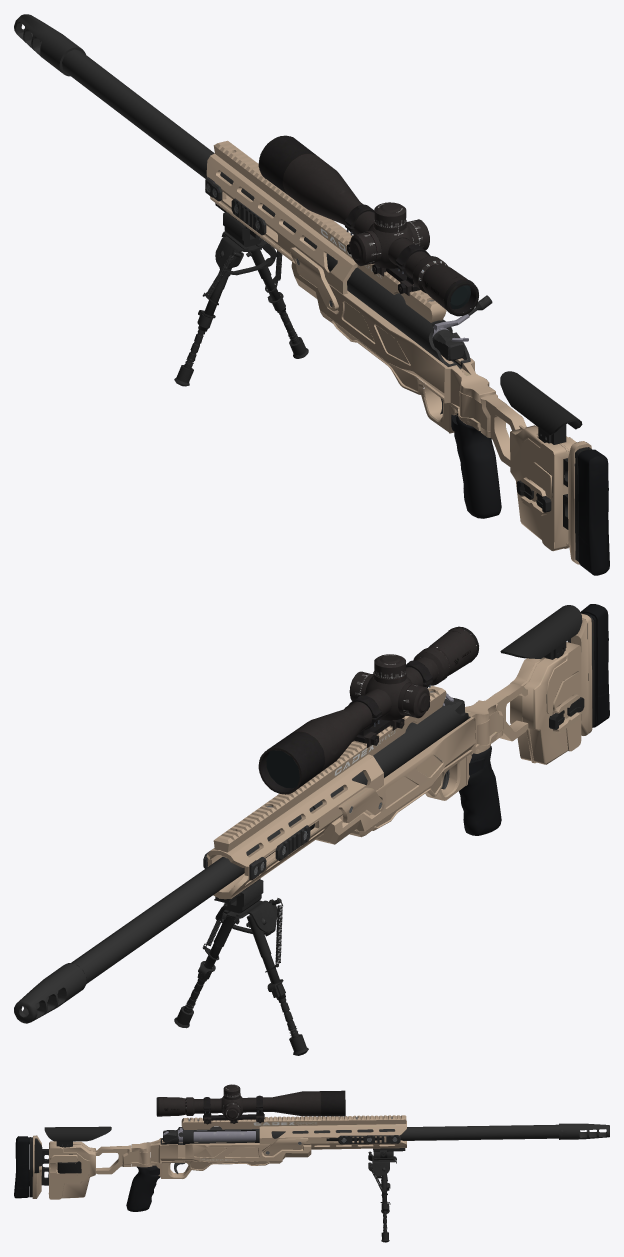
Rendered from arma.glb.
3 renders of one model, top to bottom at view 1: azimuth 30°, elevation 25°; view 2: azimuth 150°, elevation 25°; view 3: azimuth 270°, elevation 25°, orthographic. The views are drawn at different scales.
Parts seen in each view (by area): view 1: cuerpo; view 2: cuerpo; view 3: cuerpo, cerrojo.
Part boxes in pixels (x1,y1,x2,y2): cuerpo: [14, 14, 609, 575]; cuerpo: [14, 604, 609, 1055]; cuerpo: [14, 1084, 609, 1242]; cerrojo: [178, 1132, 212, 1161].
Size of the model in its own units: 0.1624 by 0.3207 by 1.23.
6 materials, 6 textured.
